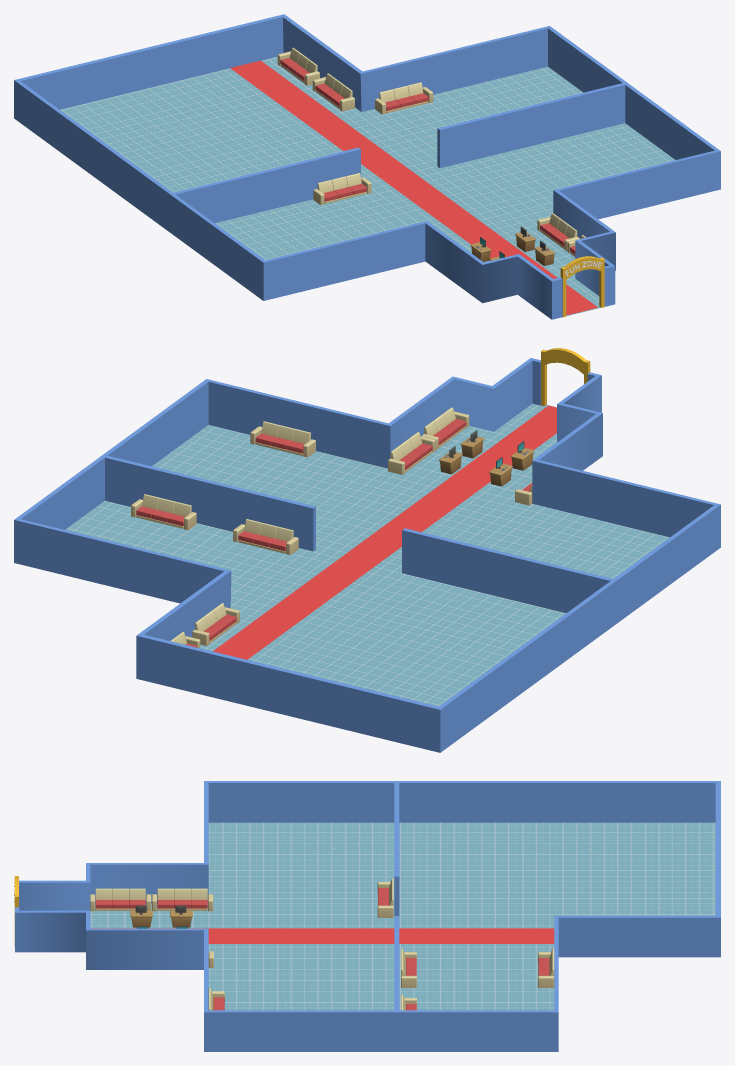
Rendered from Fun_Zone_02.fbx.
3 renders of one model, top to bottom at view 1: azimuth 30°, elevation 25°; view 2: azimuth 150°, elevation 25°; view 3: azimuth 270°, elevation 25°, orthographic. The views are drawn at different scales.
Parts seen in each view (by area): view 1: Wall_02, Floor_04, Carpet_01, Sofa_04, Sofa_03, Gate_03, Sofa_10, Sofa_13, Sofa_11; view 2: Wall_02, Floor_04, Carpet_01, Sofa_09, Sofa_07, Sofa_08, Sofa_11, Sofa_10, Sofa_06, Gate_03; view 3: Floor_04, Wall_02, Carpet_01, Sofa_12, Sofa_05, Sofa_03, Sofa_04, Sofa_08.
Part boxes in pixels (bbox=[...]): Wall_02: bbox=[14, 14, 720, 319]; Floor_04: bbox=[60, 56, 675, 316]; Carpet_01: bbox=[230, 60, 597, 315]; Sofa_04: bbox=[313, 173, 371, 204]; Sofa_03: bbox=[375, 82, 433, 114]; Gate_03: bbox=[560, 256, 604, 317]; Sofa_10: bbox=[312, 73, 354, 111]; Sofa_13: bbox=[277, 47, 319, 85]; Sofa_11: bbox=[537, 213, 579, 250]; Wall_02: bbox=[14, 358, 720, 752]; Floor_04: bbox=[65, 403, 669, 706]; Carpet_01: bbox=[213, 405, 556, 659]; Sofa_09: bbox=[131, 494, 196, 530]; Sofa_07: bbox=[250, 421, 315, 457]; Sofa_08: bbox=[233, 519, 298, 554]; Sofa_11: bbox=[388, 432, 435, 474]; Sofa_10: bbox=[192, 603, 239, 645]; Sofa_06: bbox=[422, 407, 469, 450]; Gate_03: bbox=[541, 348, 590, 406]; Floor_04: bbox=[90, 822, 715, 1010]; Wall_02: bbox=[15, 781, 720, 1051]; Carpet_01: bbox=[90, 928, 554, 943]; Sofa_12: bbox=[152, 888, 213, 911]; Sofa_05: bbox=[90, 888, 151, 911]; Sofa_03: bbox=[538, 948, 554, 987]; Sofa_04: bbox=[377, 878, 393, 917]; Sofa_08: bbox=[401, 948, 416, 987].
Bounding box in the file's own units: 96.99 × 11.59 × 125.
